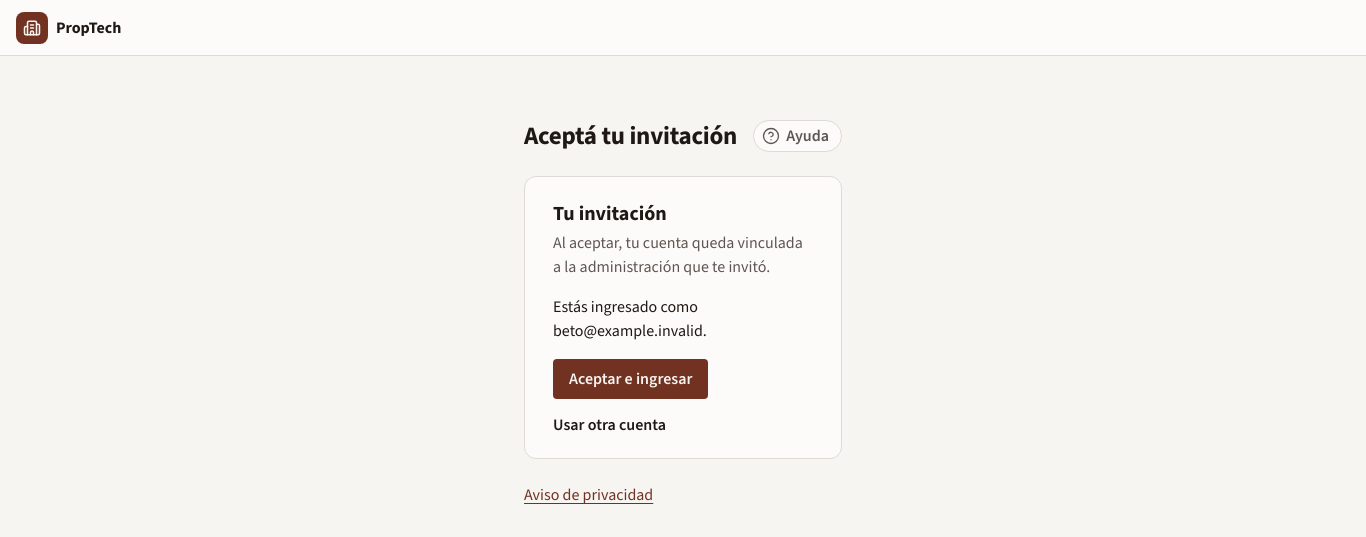
PantallaInvitacion › con sesión y el claim de email (Abrir la invitación con la sesión de otra cuenta) › si la aceptación falla, el mensaje nombra la cuenta y repite Usar otra cuenta (Aceptar con la cuenta equivocada)
Click the button "Aceptar e ingresar". click: (631, 379)
box: [553,359,708,399]
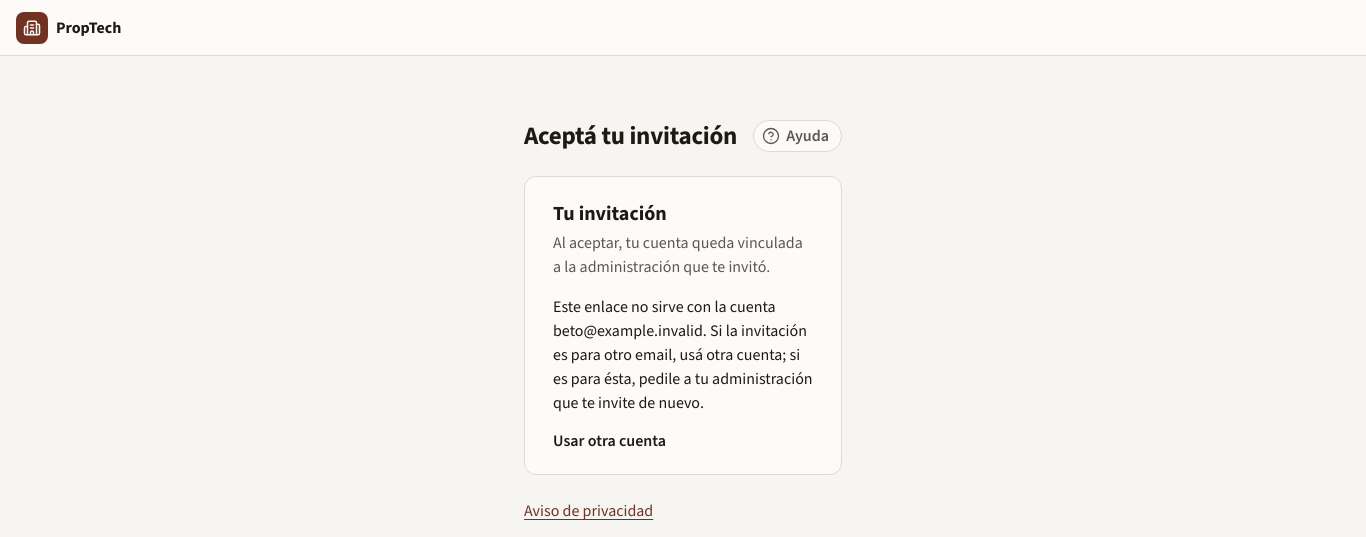
Expected: the button "Usar otra cuenta" is shown, [553,431,813,450]
Now the text "Este enlace no sirve con la cuenta beto@example.invalid." is shown, box [553,296,813,413]
